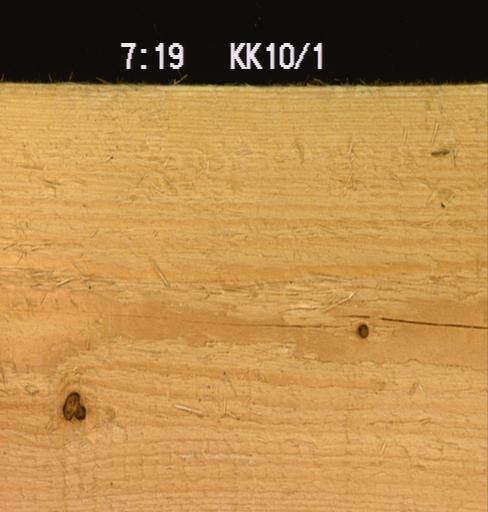dry_knot: (60, 389, 87, 421), (356, 322, 368, 336)
split: (115, 311, 341, 328), (377, 315, 487, 329)
